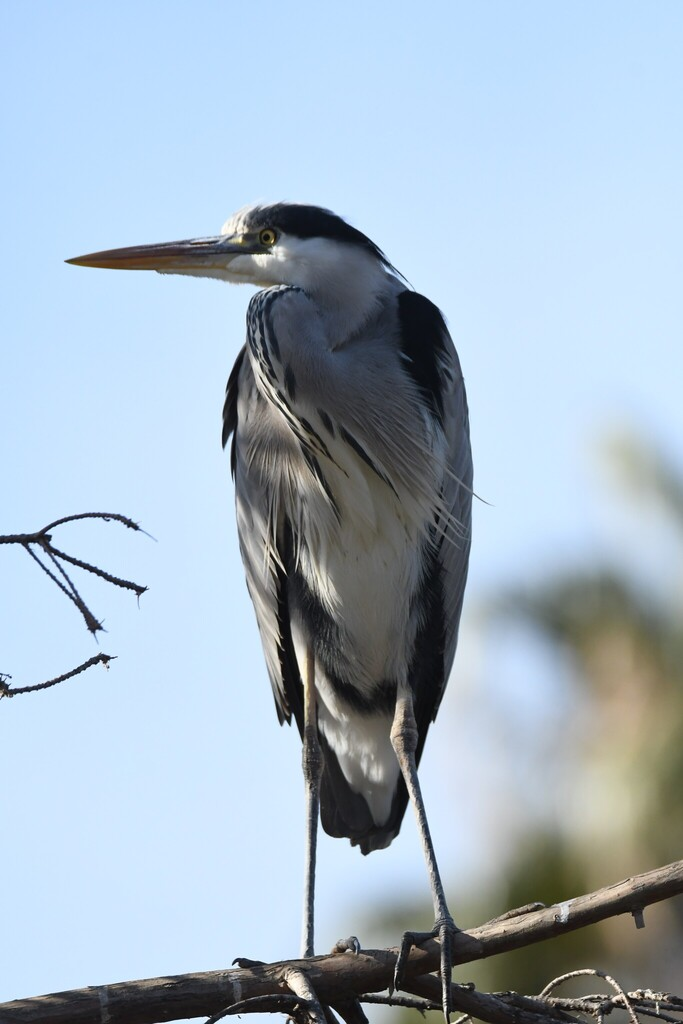heron: (62, 194, 497, 1024)
